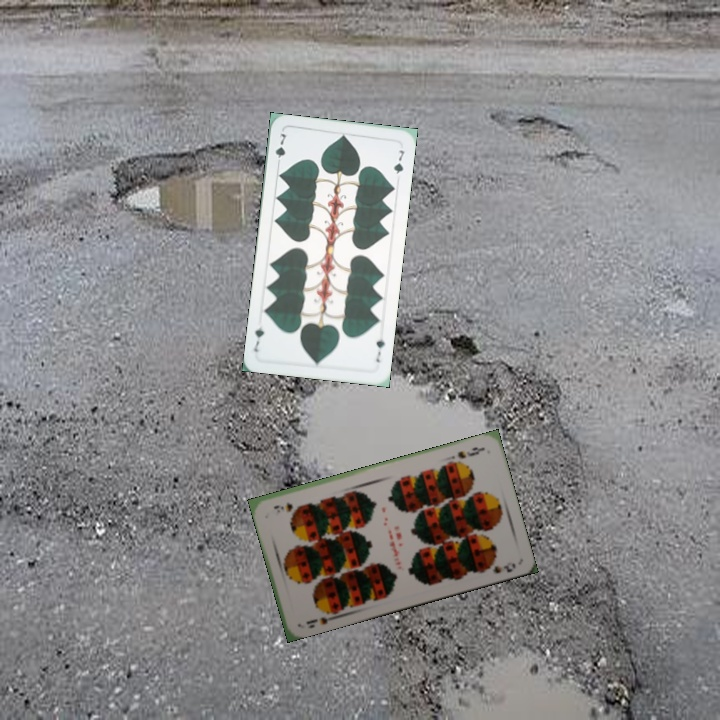G7: (271, 130, 288, 169), (372, 335, 387, 365)
S9: (302, 605, 338, 631), (454, 443, 487, 461)
